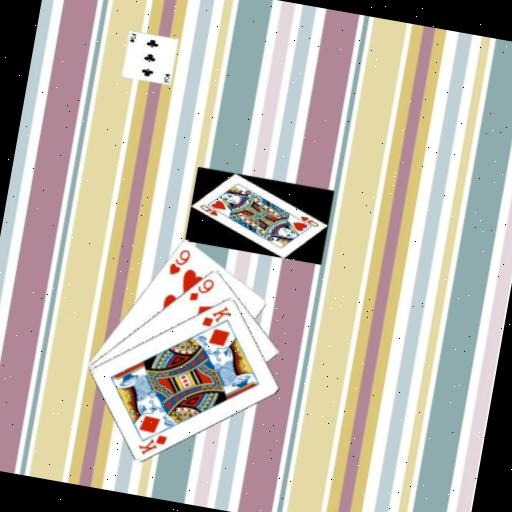9D: (186, 272, 217, 305)
9H: (164, 243, 193, 279)
KD: (198, 299, 234, 332), (134, 427, 170, 459)
